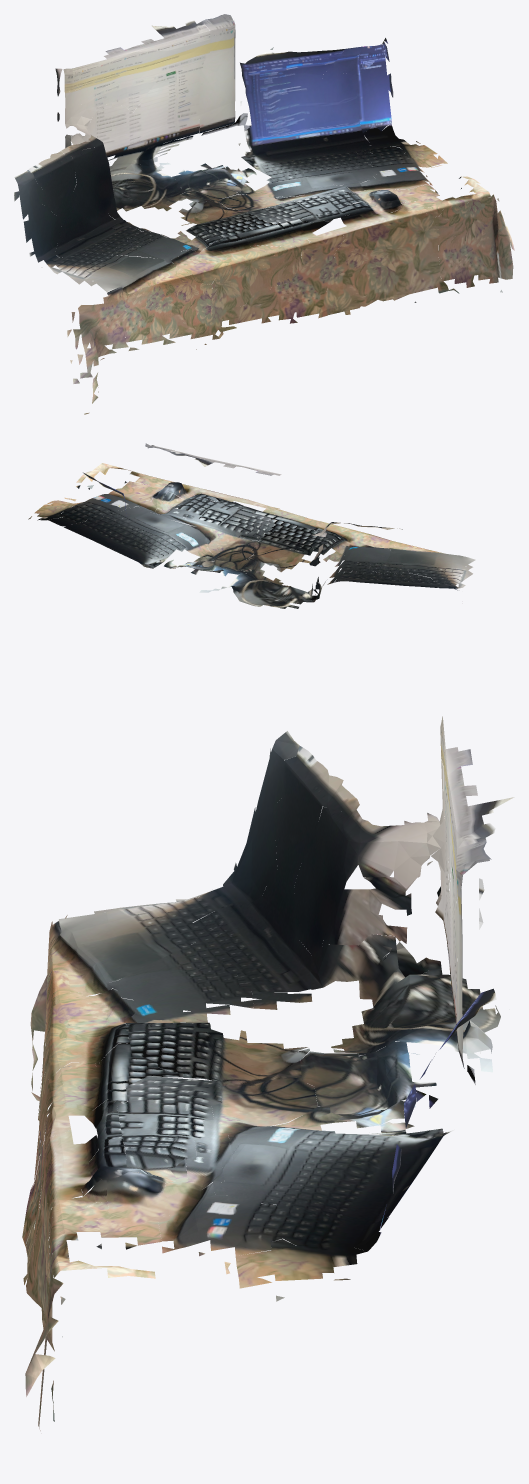
File: template.glb
The picture shows the model from 3 angles, top to bottom: view 1: azimuth 30°, elevation 25°; view 2: azimuth 150°, elevation 25°; view 3: azimuth 270°, elevation 25°; orthographic projection. The views are drawn at different scales.
Parts seen in each view (by area): view 1: Mesh_0; view 2: Mesh_0; view 3: Mesh_0.
Part boxes in pixels (<box>): Mesh_0: <box>14,14,514,414</box>; Mesh_0: <box>28,443,475,608</box>; Mesh_0: <box>22,716,514,1430</box>.
Bounding box in the file's own units: 1.2 × 0.6646 × 0.6053.
1 material, 1 textured.
